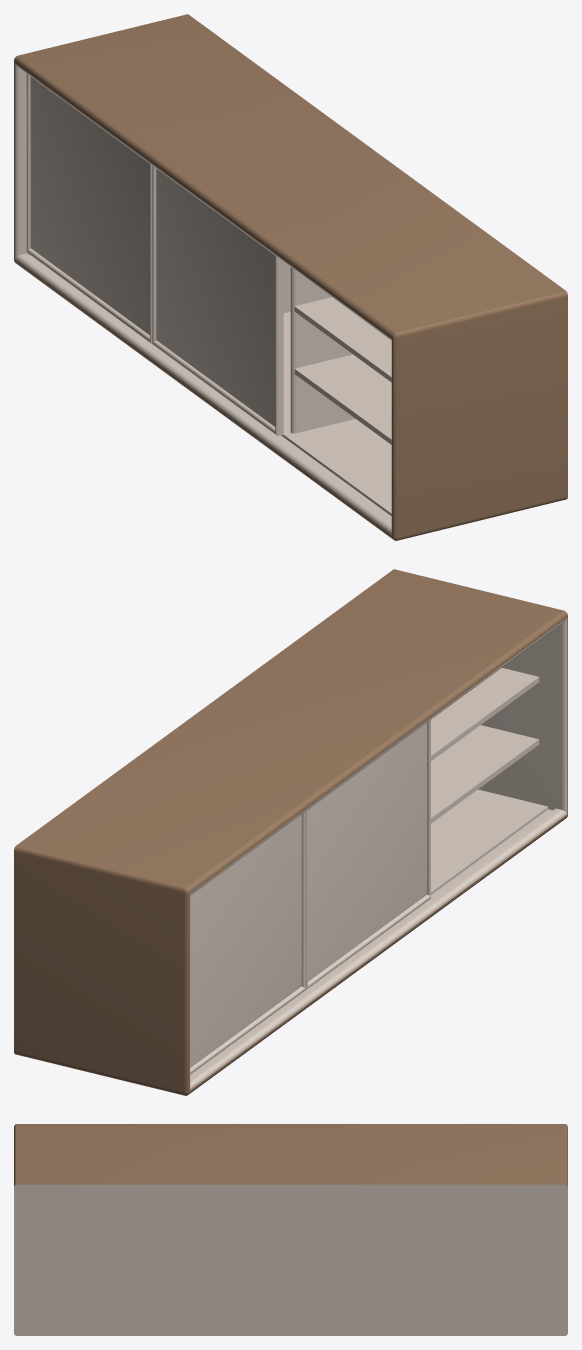
The model's file is Mueble-sala-TV.fbx.
3 renders of one model, top to bottom at view 1: azimuth 30°, elevation 25°; view 2: azimuth 150°, elevation 25°; view 3: azimuth 270°, elevation 25°, orthographic. The views are drawn at different scales.
Parts seen in each view (by area): view 1: Gabinete2; view 2: Gabinete2; view 3: Gabinete2.
Boxes of the visible parts, box(x1,y1,x2,y2) form: Gabinete2: box(14, 14, 567, 540); Gabinete2: box(14, 569, 567, 1095); Gabinete2: box(14, 1124, 567, 1335).
Bounding box in the file's own units: 69.35 × 79.26 × 263.
